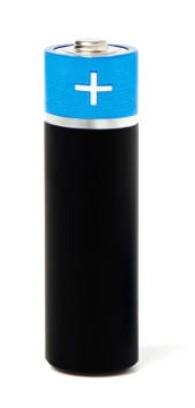Battery: (43, 38, 141, 378)
